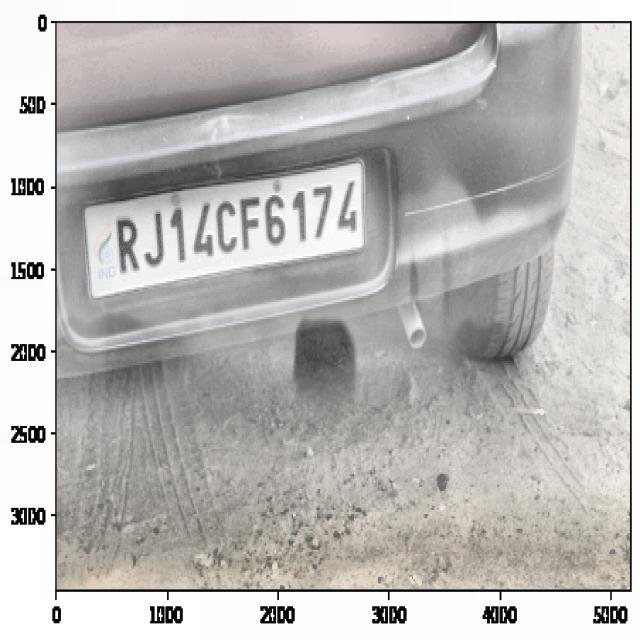license_plate: (112, 172, 363, 281)
